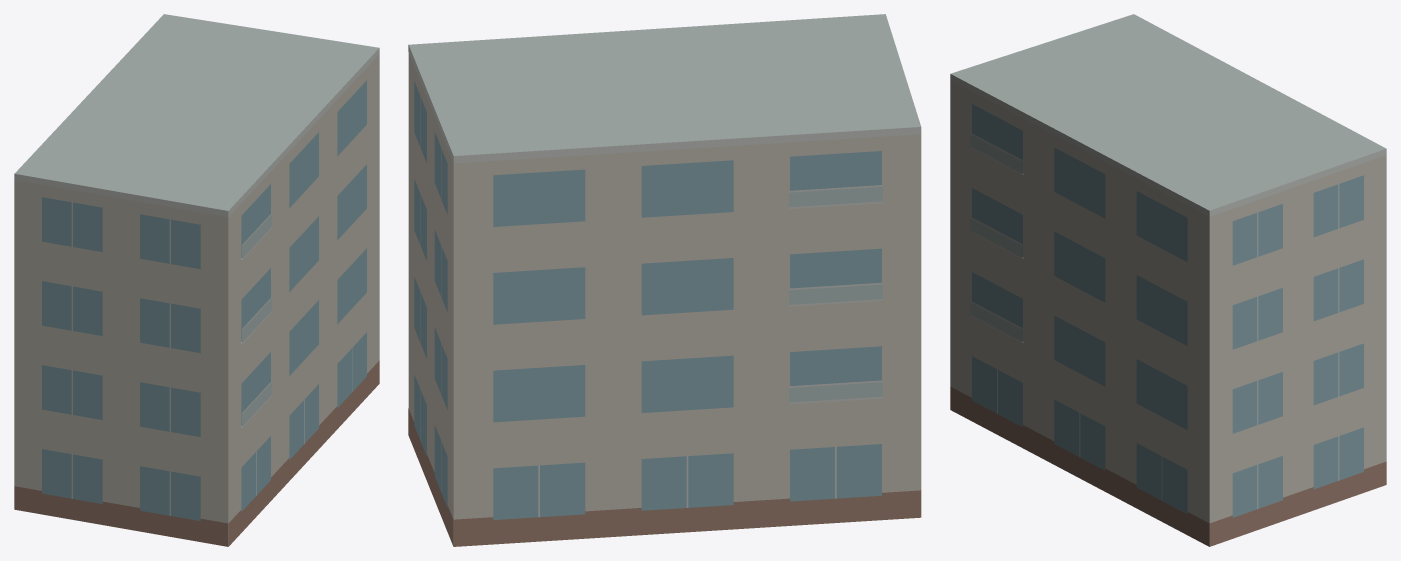
File: survey-upis-32780493.glb
3 renders of one model, left to right at view 1: azimuth 30°, elevation 25°; view 2: azimuth 150°, elevation 25°; view 3: azimuth 270°, elevation 25°, orthographic. The views are drawn at different scales.
Parts seen in each view (by area): view 1: survey-upis-32780493.tmp; view 2: survey-upis-32780493.tmp; view 3: survey-upis-32780493.tmp.
Boxes of the visible parts, left/top/right/bottom form: survey-upis-32780493.tmp: left=14, top=14, right=379, bottom=546; survey-upis-32780493.tmp: left=408, top=14, right=921, bottom=546; survey-upis-32780493.tmp: left=950, top=14, right=1386, bottom=546.
Size of the model in its own units: 16.58 by 13.2 by 15.54.
